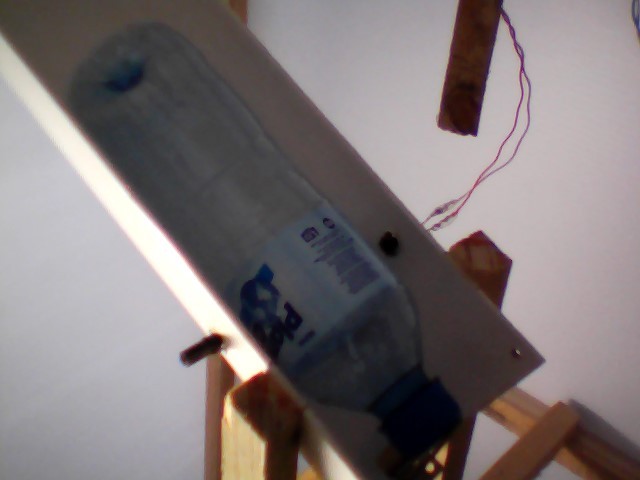plastico: (61, 13, 472, 471)
